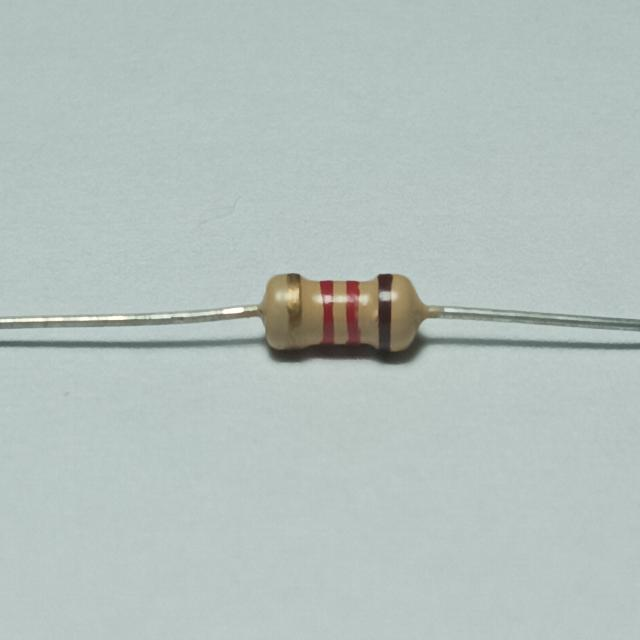1.2k ohms: (249, 253, 435, 370)
